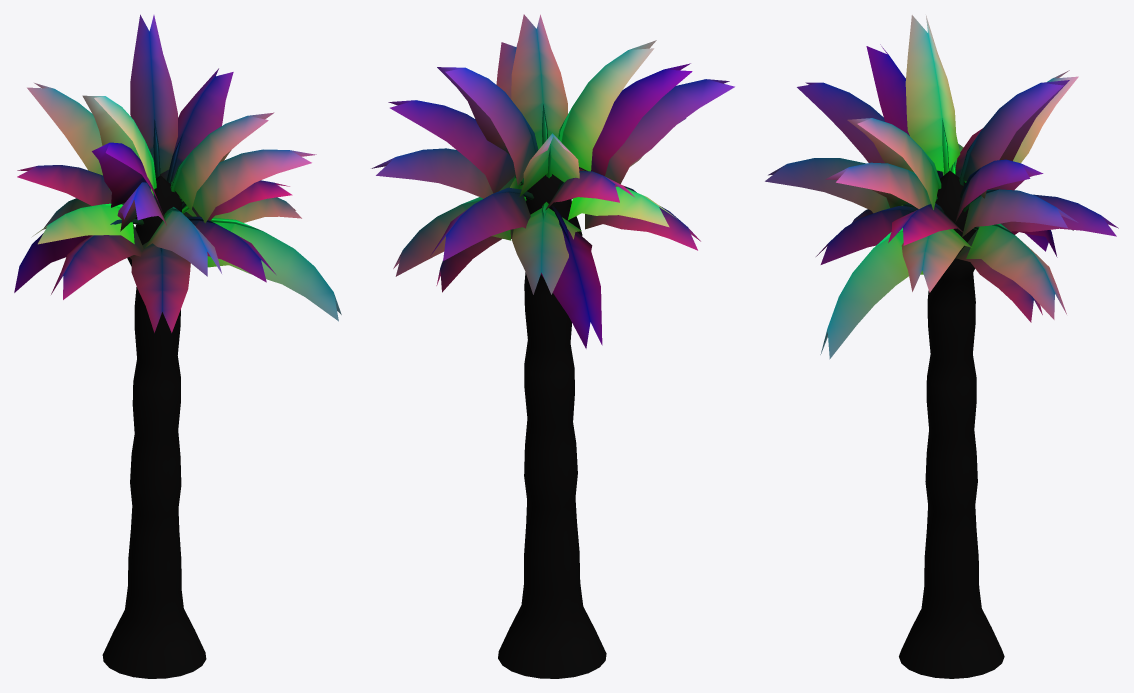
File: M_Palm_2_5.fbx
3 views of the same model, side by side, from view 1: azimuth 30°, elevation 25°; view 2: azimuth 150°, elevation 25°; view 3: azimuth 270°, elevation 25° (orthographic). The views are drawn at different scales.
Visible parts, largest first — view 1: Palm_2_5; view 2: Palm_2_5; view 3: Palm_2_5.
Boxes of the visible parts, left/top/right/bottom form: Palm_2_5: left=14, top=14, right=341, bottom=678; Palm_2_5: left=371, top=14, right=734, bottom=678; Palm_2_5: left=765, top=15, right=1118, bottom=678.
Size of the model in its own units: 476 by 1066 by 570.
